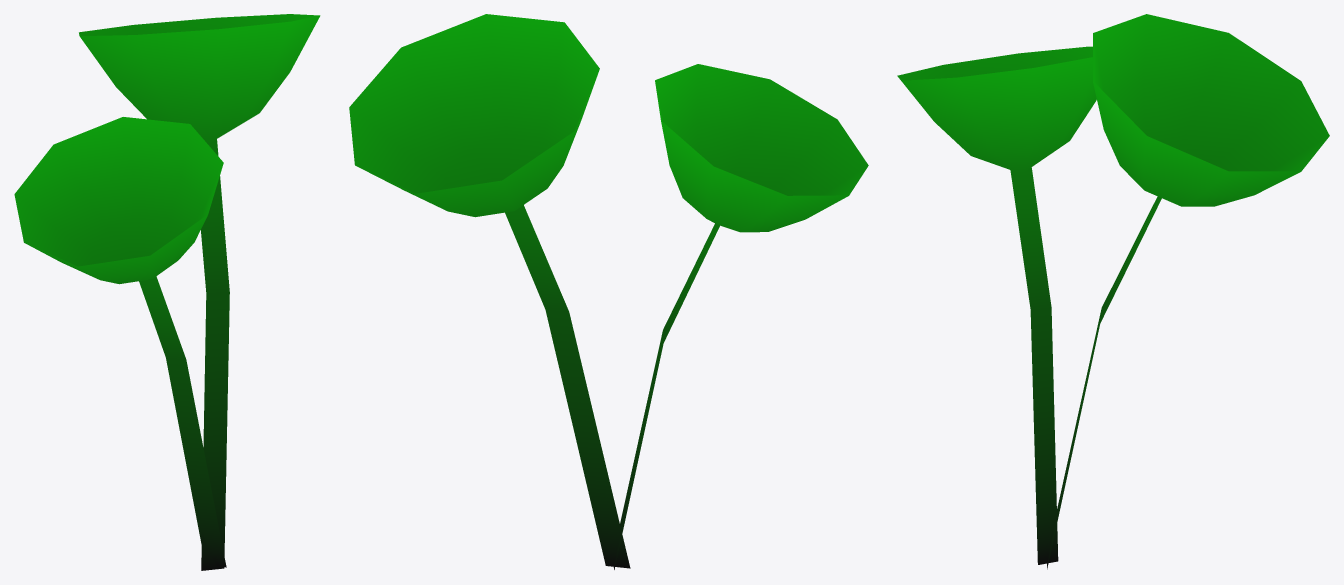
Rendered from TGV_Flowers_Patch_02A.fbx.
3 views of the same model, side by side, from view 1: azimuth 30°, elevation 25°; view 2: azimuth 150°, elevation 25°; view 3: azimuth 270°, elevation 25° (orthographic). The views are drawn at different scales.
Parts seen in each view (by area): view 1: TGV_Flowers_Patch_02A_LOD0; view 2: TGV_Flowers_Patch_02A_LOD0; view 3: TGV_Flowers_Patch_02A_LOD0.
Boxes of the visible parts, x1,y1,x2,y2 form: TGV_Flowers_Patch_02A_LOD0: (14,14,320,570); TGV_Flowers_Patch_02A_LOD0: (349,14,868,569); TGV_Flowers_Patch_02A_LOD0: (897,14,1329,569).
Bounding box in the file's own units: 46.12 × 62.42 × 44.82.
